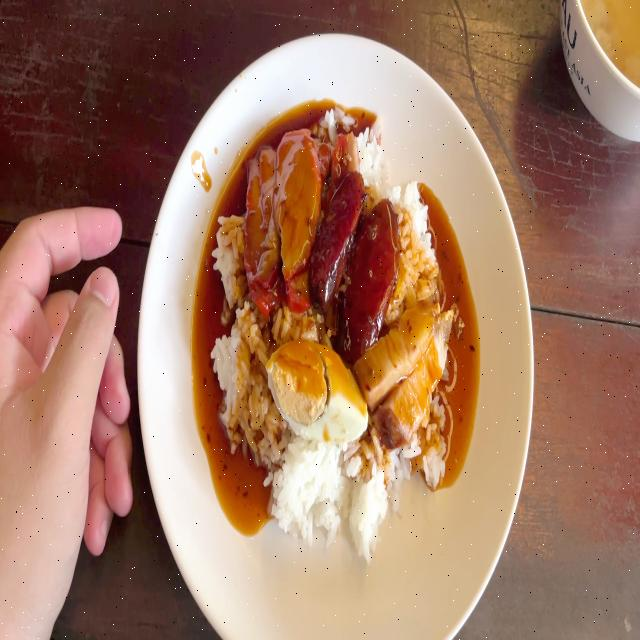boiled_egg: (270, 339, 366, 443)
chainese_sausage: (316, 176, 393, 352), (345, 200, 397, 349), (313, 169, 364, 307)
crispy_pork: (364, 304, 450, 444), (359, 304, 441, 394), (392, 311, 452, 434)
red_pork: (245, 138, 313, 298), (245, 144, 274, 298), (280, 134, 313, 267), (334, 129, 361, 173)
red_pork_and_crispy_pork: (217, 110, 455, 550)
rice: (259, 442, 397, 546), (214, 307, 264, 461), (395, 182, 437, 316), (217, 216, 242, 302)
